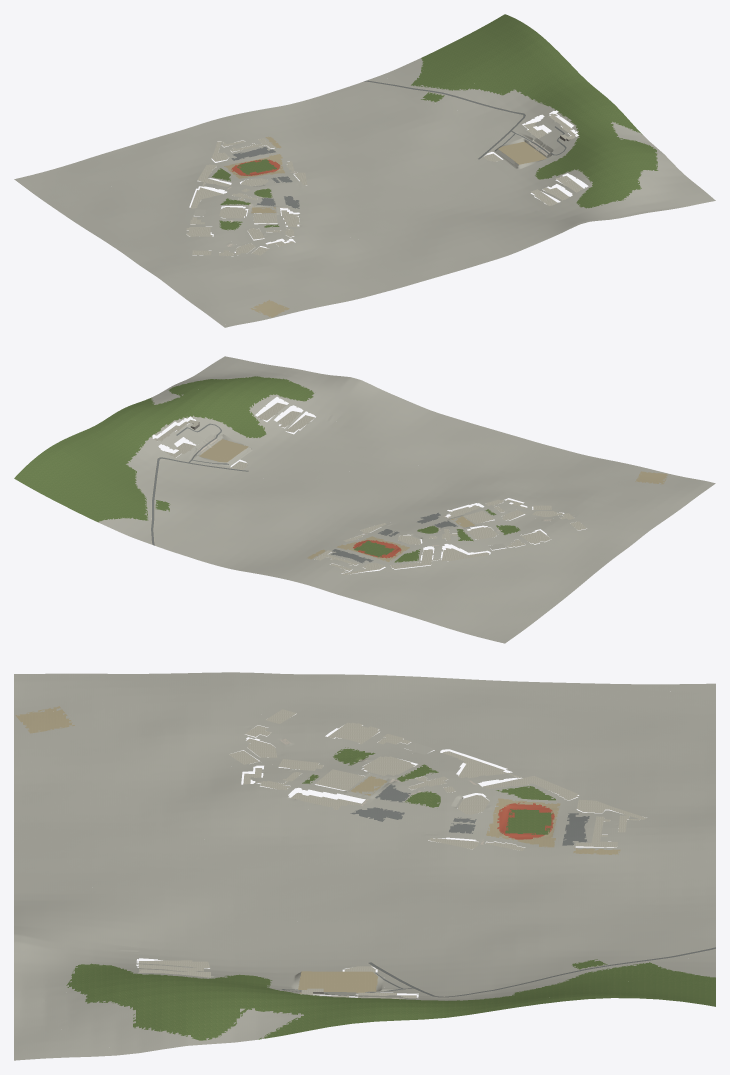
3 renders of one model, top to bottom at view 1: azimuth 30°, elevation 25°; view 2: azimuth 150°, elevation 25°; view 3: azimuth 270°, elevation 25°, orthographic. The views are drawn at different scales.
Parts seen in each view (by area): view 1: woosong-base, woosong-wood, woosong-paving, woosong-dirtField, woosong-asphalt; view 2: woosong-base, woosong-wood, woosong-paving, woosong-dirtField, woosong-asphalt; view 3: woosong-base, woosong-wood, woosong-paving, woosong-dirtField, woosong-asphalt, woosong-garden, woosong-pitchTurf, woosong-track, woosong-wood-overlay, woosong-grass.
Boxes of the visible parts, <box> form: woosong-base: <box>14,58,715,327</box>; woosong-wood: <box>411,14,657,208</box>; woosong-paving: <box>186,80,583,255</box>; woosong-dirtField: <box>226,137,546,317</box>; woosong-asphalt: <box>232,80,566,208</box>; woosong-base: <box>98,356,715,643</box>; woosong-wood: <box>14,376,313,522</box>; woosong-paving: <box>150,402,586,575</box>; woosong-dirtField: <box>199,439,667,560</box>; woosong-asphalt: <box>151,423,457,562</box>; woosong-base: <box>14,672,715,1060</box>; woosong-wood: <box>69,963,715,1040</box>; woosong-paving: <box>138,709,715,999</box>; woosong-dirtField: <box>17,707,618,993</box>; woosong-asphalt: <box>282,784,715,997</box>; woosong-garden: <box>334,749,554,800</box>; woosong-pitchTurf: <box>505,809,551,834</box>; woosong-track: <box>499,803,554,839</box>; woosong-wood-overlay: <box>66,962,709,1040</box>; woosong-grass: <box>304,775,607,969</box>.
Size of the model in its own units: 1236 by 123 by 920.
20 materials, 17 textured.
